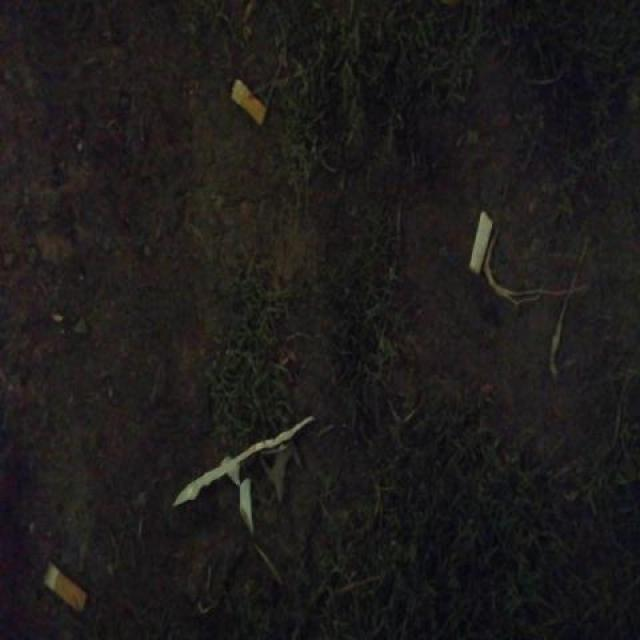non-organic waste: (40, 554, 91, 619), (227, 74, 269, 134), (466, 207, 494, 278)
